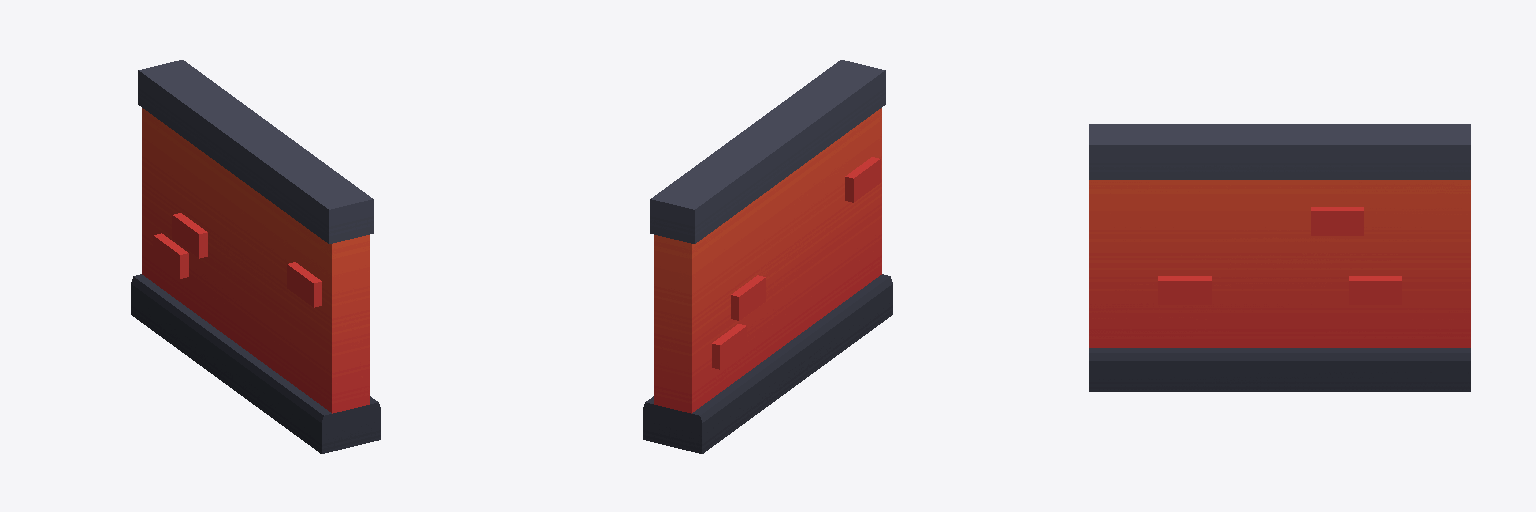
3 renders of one model, left to right at view 1: azimuth 30°, elevation 25°; view 2: azimuth 150°, elevation 25°; view 3: azimuth 270°, elevation 25°, orthographic.
Parts seen in each view (by area): view 1: brick-wall.017; view 2: brick-wall.017; view 3: brick-wall.017.
Boxes of the visible parts, x1=… form: brick-wall.017: x1=131, y1=60, x2=380, y2=453; brick-wall.017: x1=643, y1=60, x2=892, y2=453; brick-wall.017: x1=1089, y1=124, x2=1470, y2=391.
Bounding box in the file's own units: 0.441 × 1.72 × 2.45.
1 materials, 1 textured.